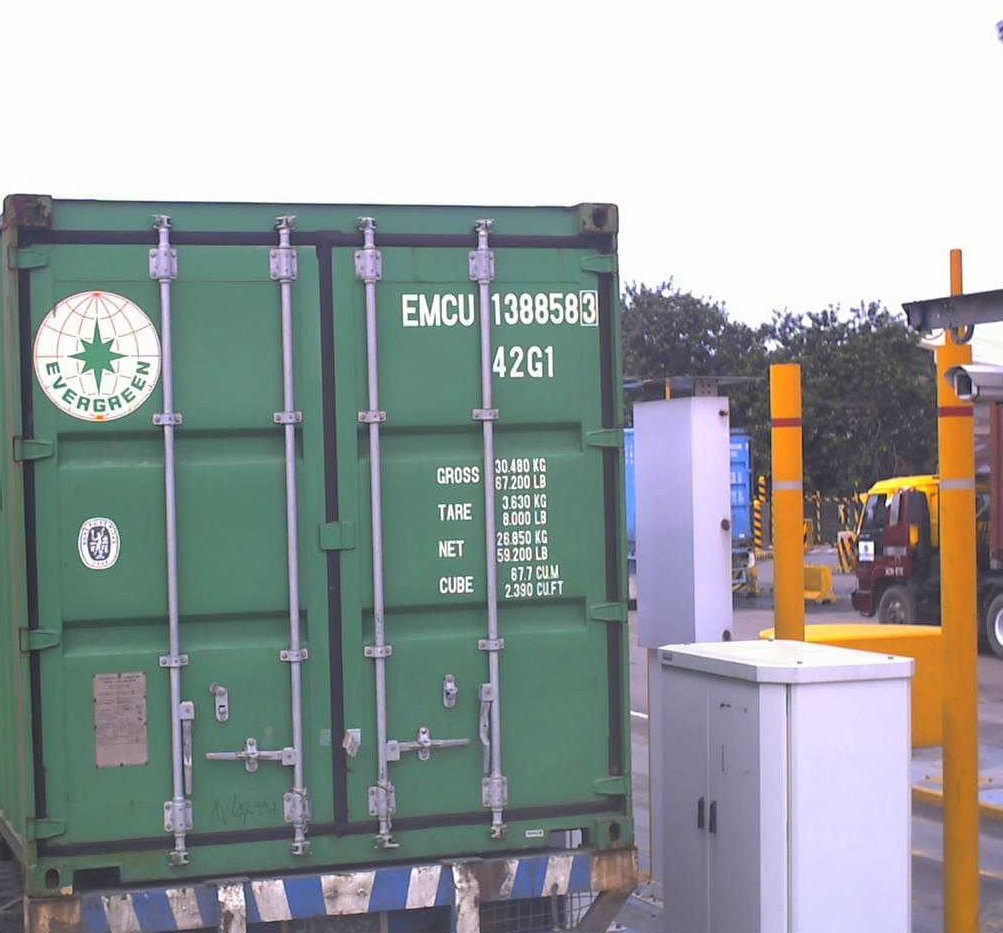container_door: (6, 187, 634, 889)
